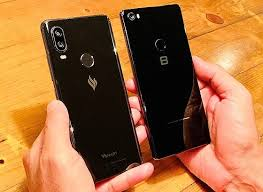bphone: (115, 3, 214, 160)
